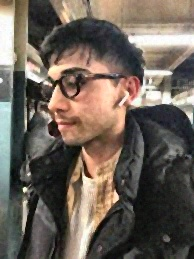earphone: (116, 76, 141, 108)
